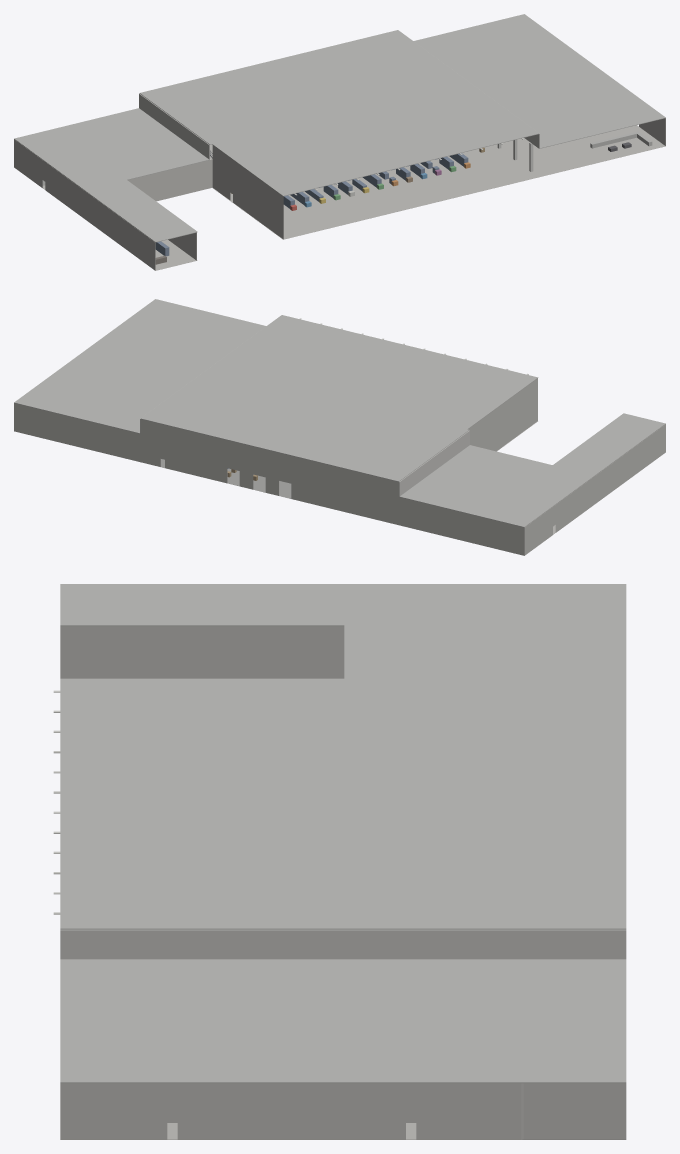
File: superstore-interior.zfix-v5.lod1.glb
3 renders of one model, top to bottom at view 1: azimuth 30°, elevation 25°; view 2: azimuth 150°, elevation 25°; view 3: azimuth 270°, elevation 25°, orthographic. The views are drawn at different scales.
Parts seen in each view (by area): view 1: superstore-interior; view 2: superstore-interior; view 3: superstore-interior.
Part boxes in pixels (x1,y1,x2,y2): superstore-interior: (14,14,665,270); superstore-interior: (14,299,665,555); superstore-interior: (53,584,626,1139).
Bounding box in the file's own units: 148 × 12.19 × 72.01.
